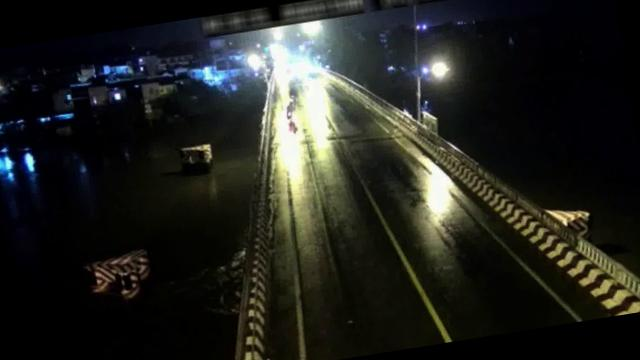Bike: (285, 98, 298, 120)
